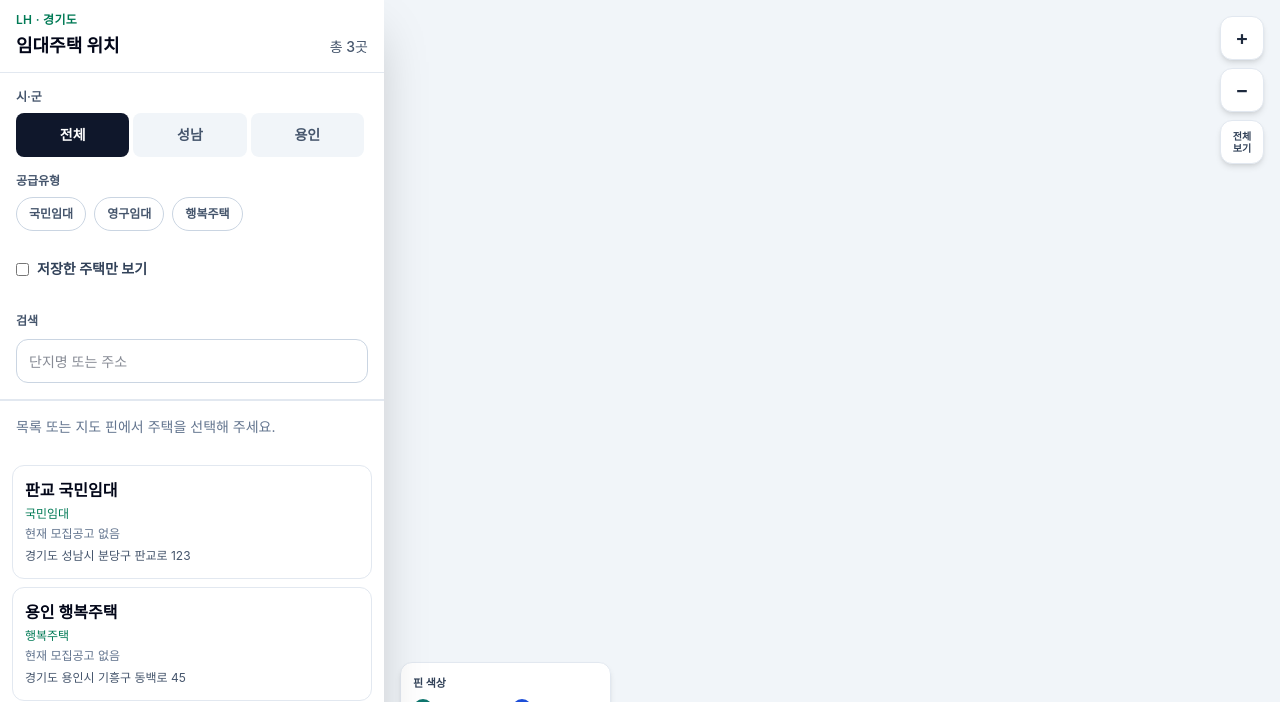
도시를 선택하면 해당 도시의 목록과 마커만 안정적으로 남긴다
This screenshot has width=1280, height=702.
Click the radio button labelled "용인". click: [307, 135]
box: [251,113,364,157]
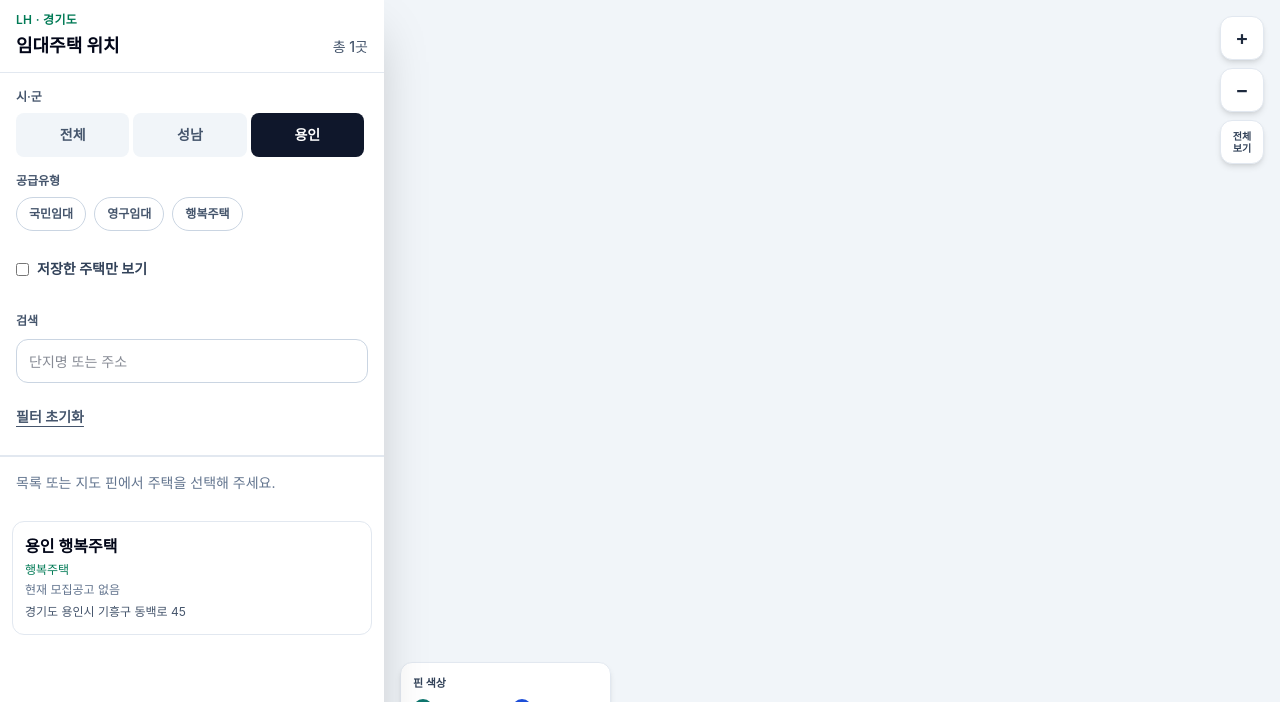
Expected: the button with aria-label "용인 행복주택 선택" is shown, [12,521,372,635]
Result: the text "총 1곳" is shown at [333,37,368,57]
